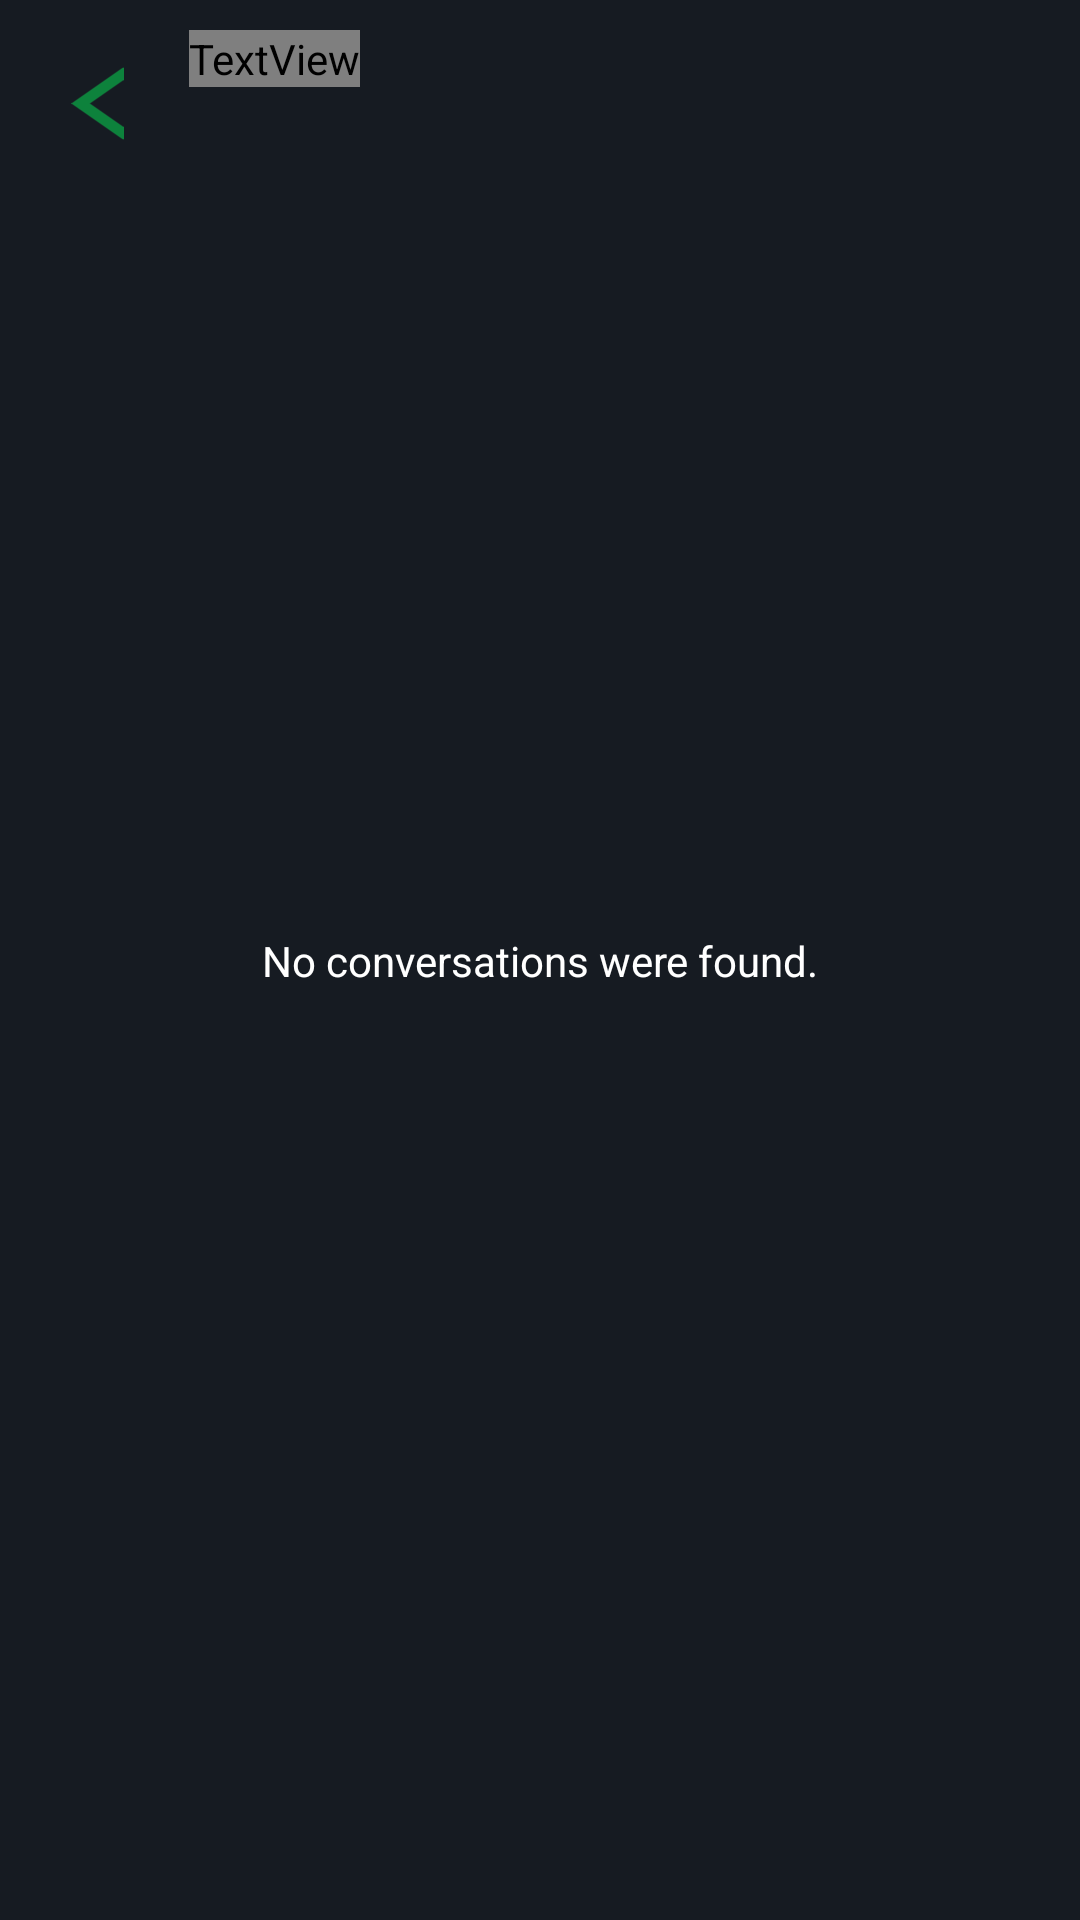

Point at icon controls on the screen. Image size 1080w x 1920h, points as point (x, y).
arrow back: point (97, 103)
